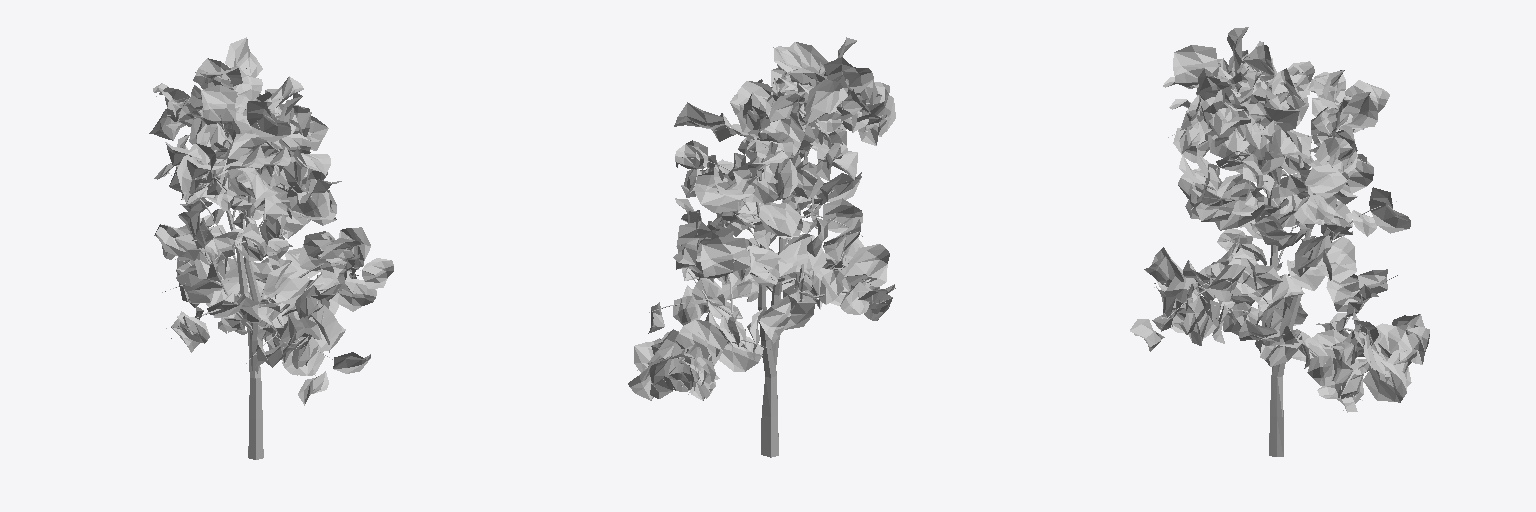
File: arbol_1.obj
The picture shows the model from 3 angles: view 1: azimuth 30°, elevation 25°; view 2: azimuth 150°, elevation 25°; view 3: azimuth 270°, elevation 25°; orthographic projection.
Parts seen in each view (by area): view 1: tree1; view 2: tree1; view 3: tree1.
Boxes of the visible parts, <box> form: tree1: <box>149,37,393,459</box>; tree1: <box>628,37,895,457</box>; tree1: <box>1130,27,1429,456</box>.
Size of the model in its own units: 5.25 by 9.37 by 6.44.